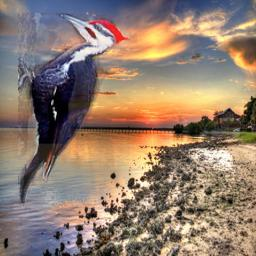Woodpecker: (18, 13, 137, 208)
